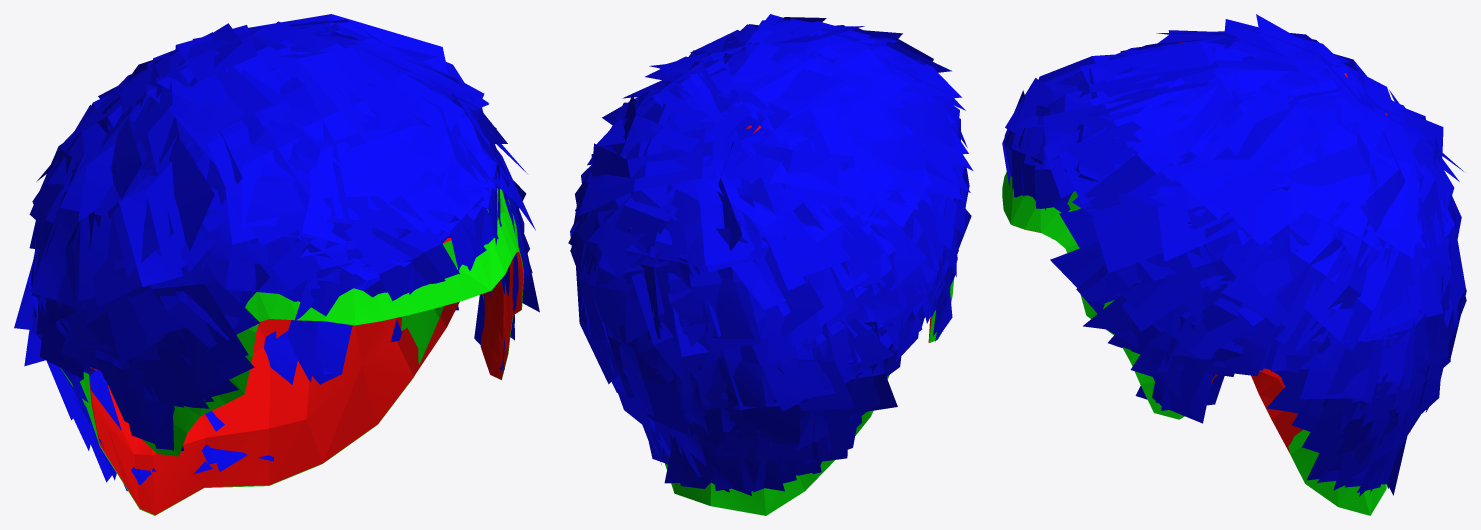
File: hair_010.obj
3 renders of one model, left to right at view 1: azimuth 30°, elevation 25°; view 2: azimuth 150°, elevation 25°; view 3: azimuth 270°, elevation 25°, orthographic. The views are drawn at different scales.
Bounding box in the file's own units: 19.09 × 21.41 × 20.1.
